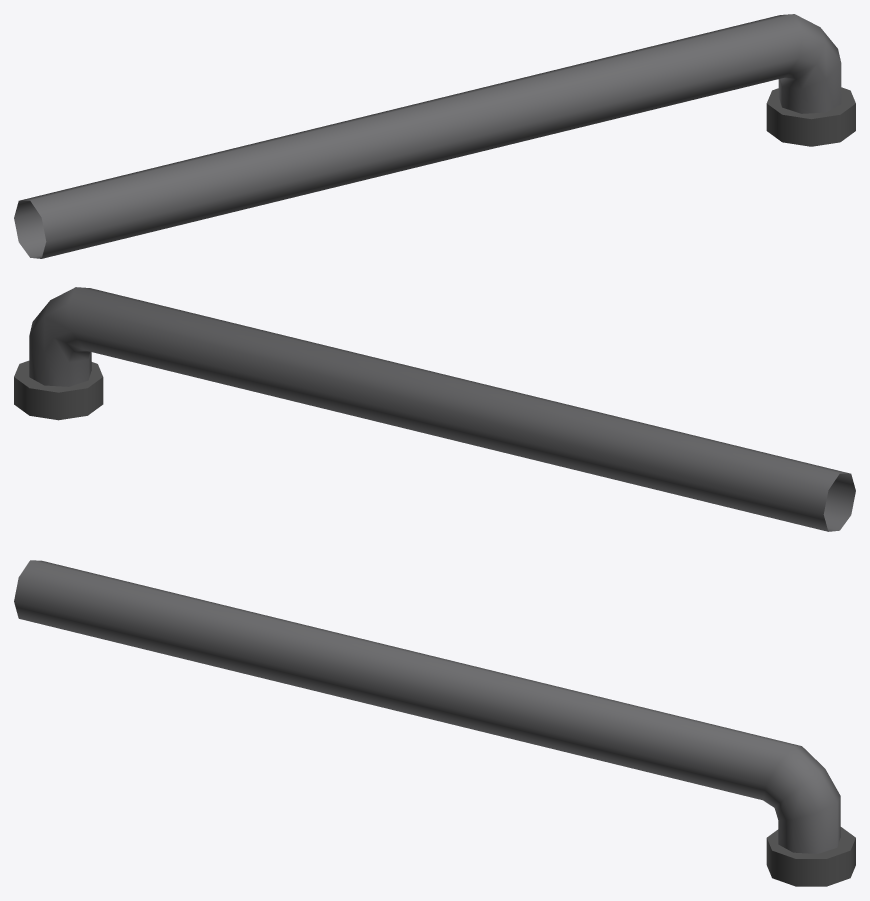
The model's file is Pipe_1_B_2_3.fbx.
3 views of the same model, one above another, from view 1: azimuth 30°, elevation 25°; view 2: azimuth 150°, elevation 25°; view 3: azimuth 330°, elevation 25° (orthographic).
Visible parts, largest first — view 1: Pipe_1_B_2_3; view 2: Pipe_1_B_2_3; view 3: Pipe_1_B_2_3.
Part boxes in pixels (x1,y1,x2,y2): Pipe_1_B_2_3: (14, 14, 855, 258); Pipe_1_B_2_3: (14, 287, 855, 531); Pipe_1_B_2_3: (14, 560, 855, 886).
Size of the model in its own units: 320 by 43.92 by 30.12.
